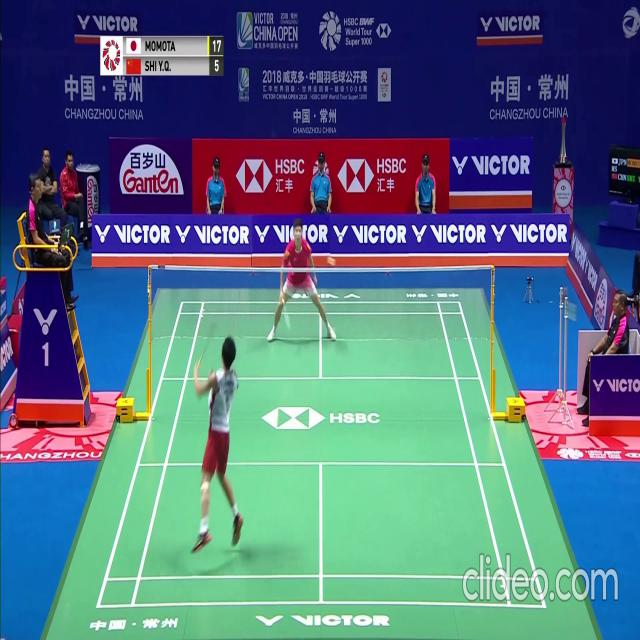Shuttlecock: (330, 258, 335, 266)
